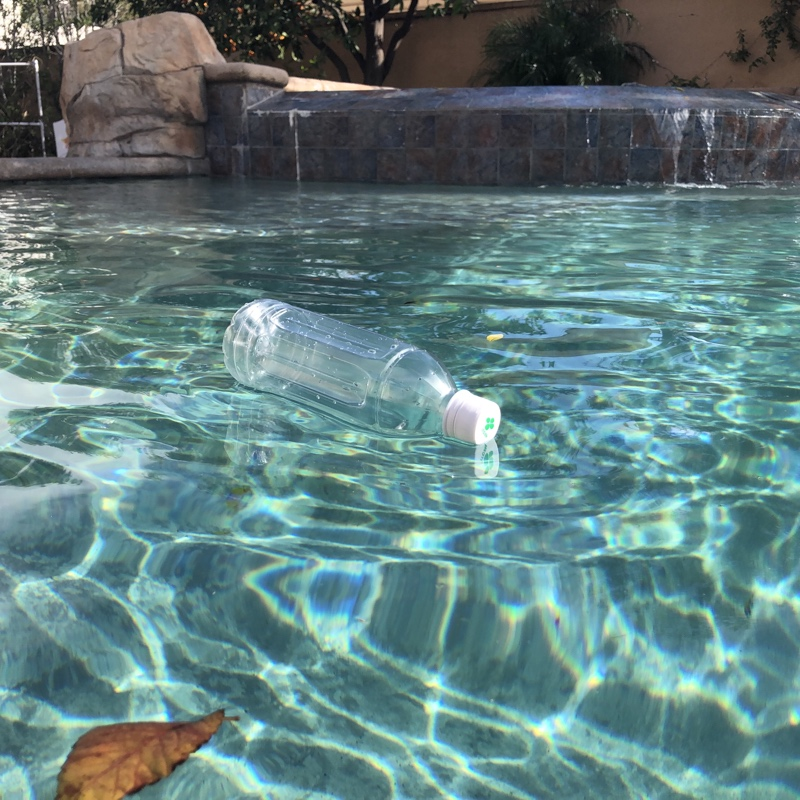Plastic Bottle: (214, 293, 510, 456)
